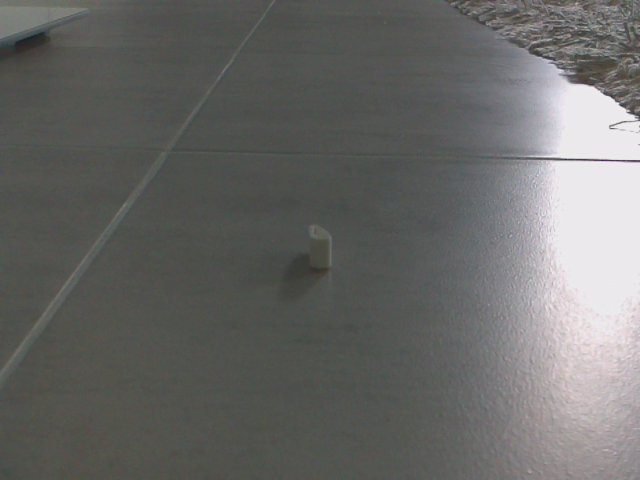Kappe: (297, 218, 346, 277)
